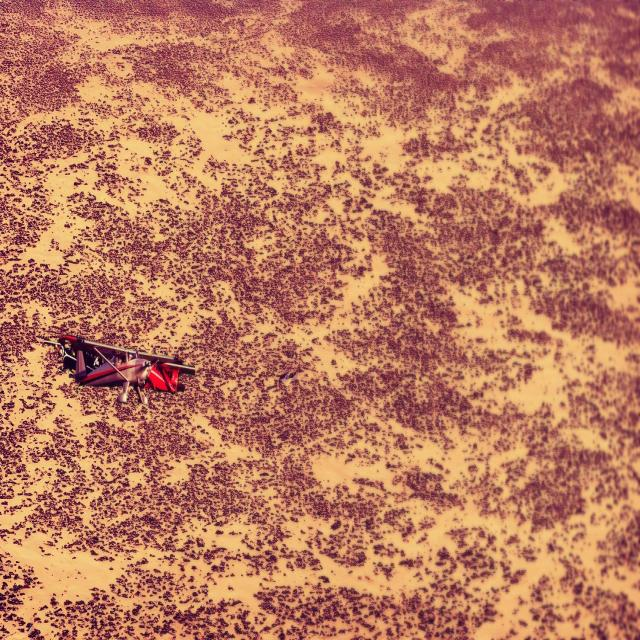airplane: (43, 332, 196, 406)
